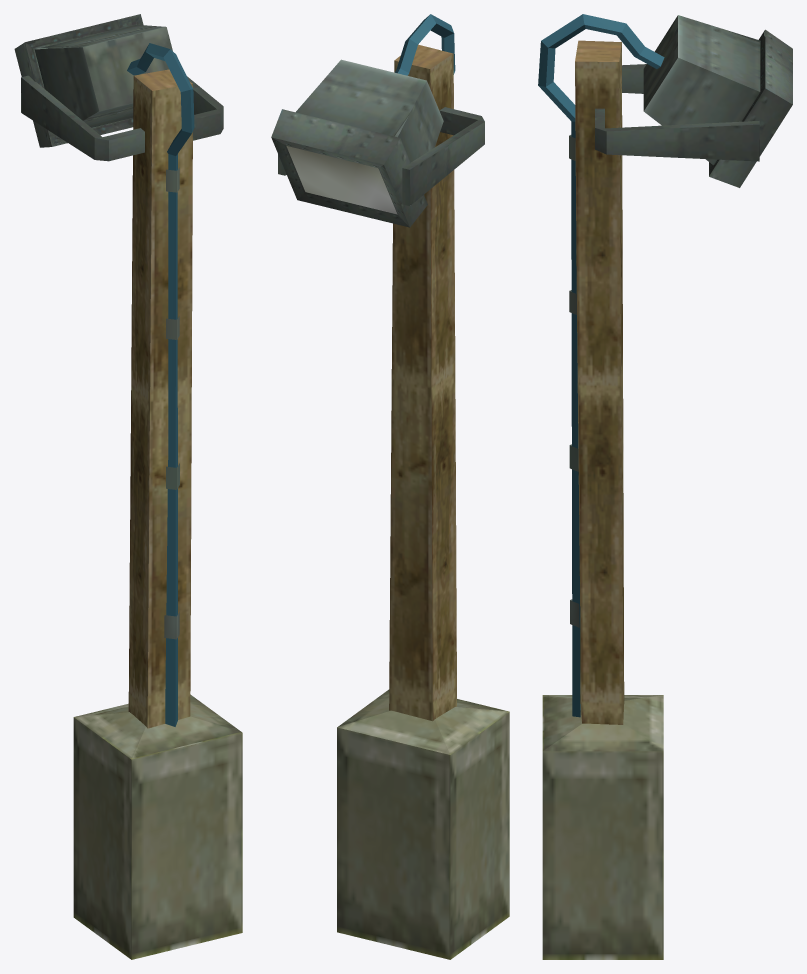
Rendered from C1SMGULAGLAMPPOST_H.bgf.obj.
3 renders of one model, left to right at view 1: azimuth 30°, elevation 25°; view 2: azimuth 150°, elevation 25°; view 3: azimuth 270°, elevation 25°, orthographic. The views are drawn at different scales.
Visible parts, largest first — view 1: C1SMGULAGLAMPPOST, LAMP; view 2: C1SMGULAGLAMPPOST, LAMP; view 3: C1SMGULAGLAMPPOST, LAMP.
Boxes of the visible parts, x1,y1,x2,y2 form: C1SMGULAGLAMPPOST: [21, 43, 242, 959]; LAMP: [14, 14, 172, 147]; C1SMGULAGLAMPPOST: [278, 14, 509, 959]; LAMP: [271, 59, 443, 227]; C1SMGULAGLAMPPOST: [538, 14, 759, 959]; LAMP: [643, 15, 792, 187].
Size of the model in its own units: 1.82 by 11.87 by 2.98.
Materials: 5 (5 with a texture image).
